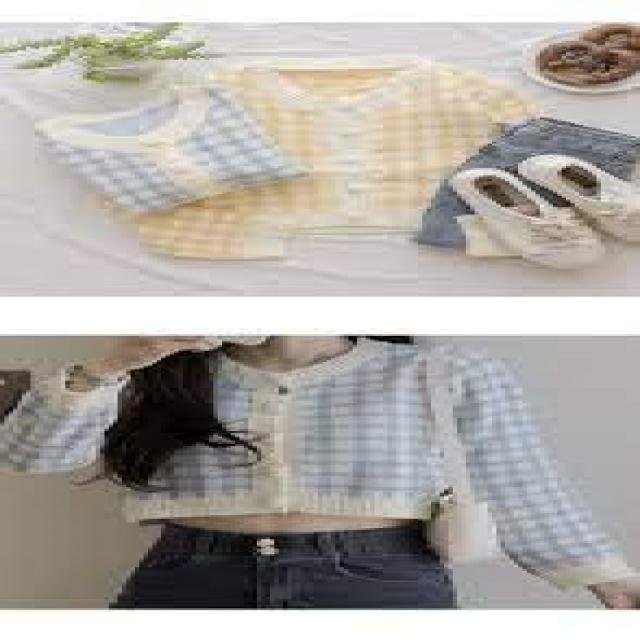plaid: (24, 343, 556, 538), (181, 50, 490, 249), (30, 103, 278, 200)
